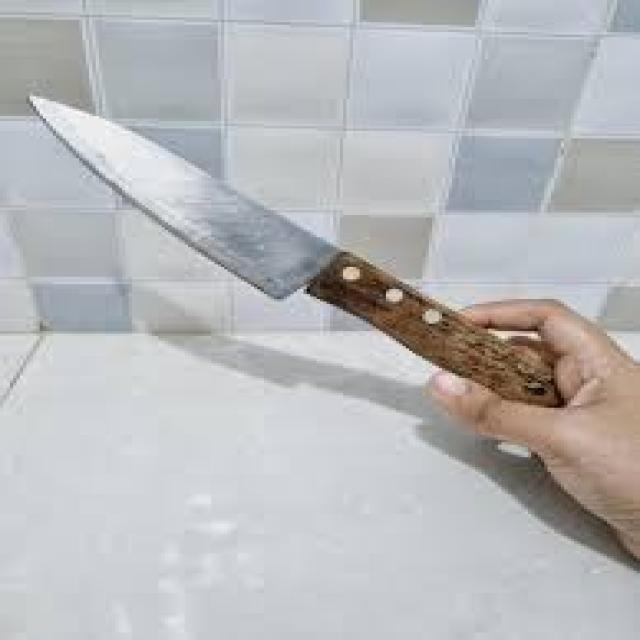Knife: (30, 94, 561, 403)
